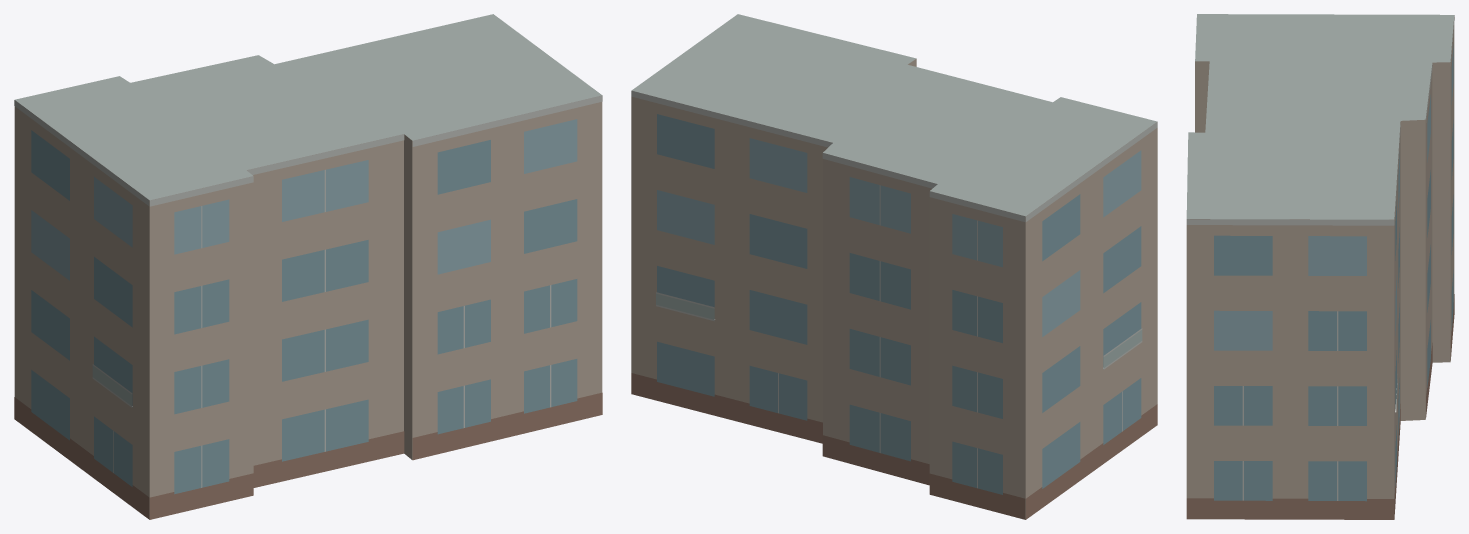
Rendered from survey-upis-32956823.glb.
3 renders of one model, left to right at view 1: azimuth 30°, elevation 25°; view 2: azimuth 150°, elevation 25°; view 3: azimuth 270°, elevation 25°, orthographic. The views are drawn at different scales.
Visible parts, largest first — view 1: survey-upis-32956823.tmp; view 2: survey-upis-32956823.tmp; view 3: survey-upis-32956823.tmp.
Boxes of the visible parts, left/top/right/bottom form: survey-upis-32956823.tmp: left=14, top=14, right=602, bottom=519; survey-upis-32956823.tmp: left=631, top=14, right=1157, bottom=519; survey-upis-32956823.tmp: left=1186, top=14, right=1454, bottom=519.
Size of the model in its own units: 18.12 by 12.3 by 9.95.
